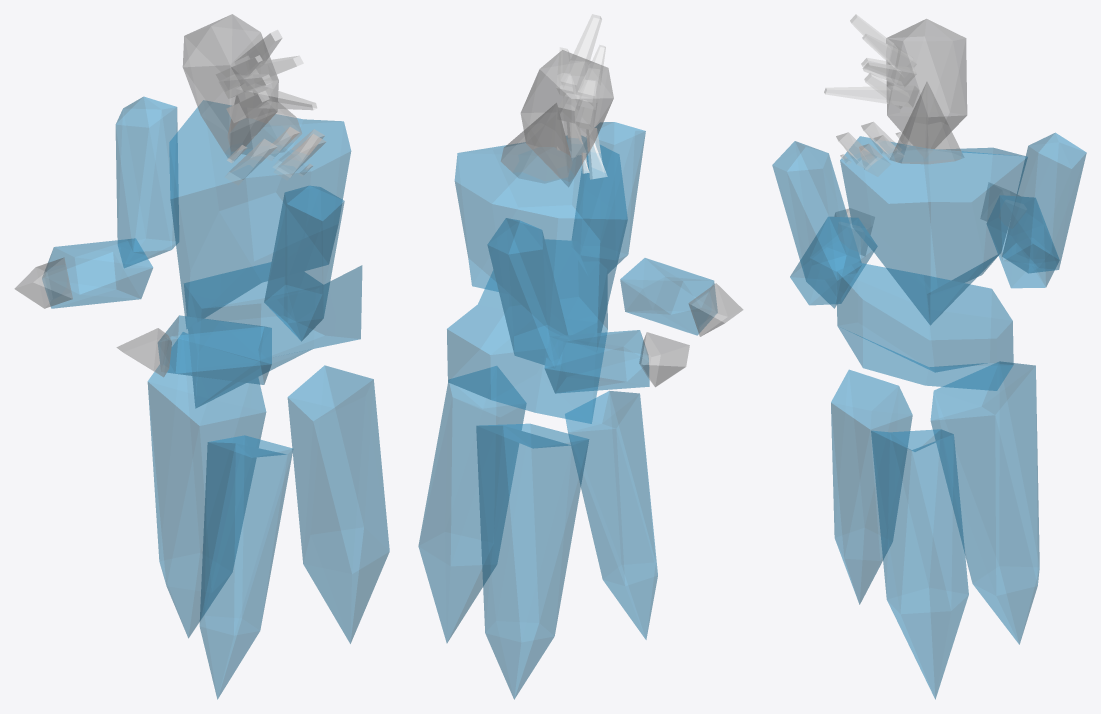
The model's file is ghostDistanceAttack13.obj.
3 views of the same model, side by side, from view 1: azimuth 30°, elevation 25°; view 2: azimuth 150°, elevation 25°; view 3: azimuth 270°, elevation 25° (orthographic). The views are drawn at different scales.
Visible parts, largest first — view 1: Cube.001_Cube.007, Icosphere.020, Icosphere.019, Cube_Cube.007, Icosphere.018, Icosphere.007_Icosphere.006, Icosphere.003_Icosphere.007, Icosphere.005_Icosphere.007, Icosphere.006_Icosphere.006, Icosphere.008_Icosphere.006, Cone_Cone.007, Cube.003_Cube.007 (+9 smaller); view 2: Cube.001_Cube.007, Icosphere.020, Icosphere.019, Cube_Cube.007, Icosphere.018, Icosphere.003_Icosphere.007, Icosphere.007_Icosphere.006, Icosphere.005_Icosphere.007, Icosphere.008_Icosphere.006, Icosphere.006_Icosphere.006, Cone_Cone.007, Cube.003_Cube.007 (+4 smaller); view 3: Cube.001_Cube.007, Icosphere.020, Icosphere.019, Cube_Cube.007, Icosphere.018, Icosphere.005_Icosphere.007, Icosphere.003_Icosphere.007, Icosphere.007_Icosphere.006, Icosphere.008_Icosphere.006, Icosphere.006_Icosphere.006, Cone_Cone.007, Cube.007_Cube.006 (+6 smaller).
Part boxes in pixels (left/top/right/bottom): Cube.001_Cube.007: left=169, top=100, right=351, bottom=328; Icosphere.020: left=147, top=332, right=266, bottom=638; Icosphere.019: left=287, top=365, right=389, bottom=643; Cube_Cube.007: left=184, top=262, right=362, bottom=408; Icosphere.018: left=199, top=435, right=293, bottom=699; Icosphere.007_Icosphere.006: left=115, top=96, right=178, bottom=267; Icosphere.003_Icosphere.007: left=182, top=14, right=278, bottom=157; Icosphere.005_Icosphere.007: left=264, top=185, right=344, bottom=341; Icosphere.006_Icosphere.006: left=158, top=315, right=271, bottom=384; Icosphere.008_Icosphere.006: left=42, top=238, right=152, bottom=308; Cone_Cone.007: left=228, top=96, right=301, bottom=154; Cube.003_Cube.007: left=14, top=257, right=72, bottom=308; Cube.001_Cube.007: left=454, top=136, right=627, bottom=351; Icosphere.020: left=476, top=423, right=589, bottom=699; Icosphere.019: left=418, top=366, right=526, bottom=642; Cube_Cube.007: left=447, top=239, right=607, bottom=423; Icosphere.018: left=565, top=391, right=657, bottom=639; Icosphere.003_Icosphere.007: left=520, top=50, right=613, bottom=186; Icosphere.007_Icosphere.006: left=487, top=218, right=568, bottom=367; Icosphere.005_Icosphere.007: left=572, top=122, right=645, bottom=273; Icosphere.008_Icosphere.006: left=544, top=330, right=649, bottom=393; Icosphere.006_Icosphere.006: left=620, top=258, right=717, bottom=335; Cone_Cone.007: left=501, top=103, right=570, bottom=183; Cube.003_Cube.007: left=639, top=332, right=689, bottom=386; Cube.001_Cube.007: left=840, top=136, right=1027, bottom=325; Icosphere.020: left=930, top=361, right=1039, bottom=644; Icosphere.019: left=871, top=429, right=968, bottom=699; Cube_Cube.007: left=837, top=262, right=1013, bottom=390; Icosphere.018: left=831, top=369, right=912, bottom=604; Icosphere.005_Icosphere.007: left=772, top=141, right=861, bottom=308; Icosphere.003_Icosphere.007: left=886, top=19, right=967, bottom=149; Icosphere.007_Icosphere.006: left=1002, top=132, right=1086, bottom=273; Icosphere.008_Icosphere.006: left=987, top=195, right=1059, bottom=288; Icosphere.006_Icosphere.006: left=790, top=217, right=877, bottom=305; Cone_Cone.007: left=889, top=82, right=964, bottom=164; Cube.007_Cube.006: left=824, top=86, right=919, bottom=107.
Size of the model in its own units: 22.31 by 45.03 by 20.36.
